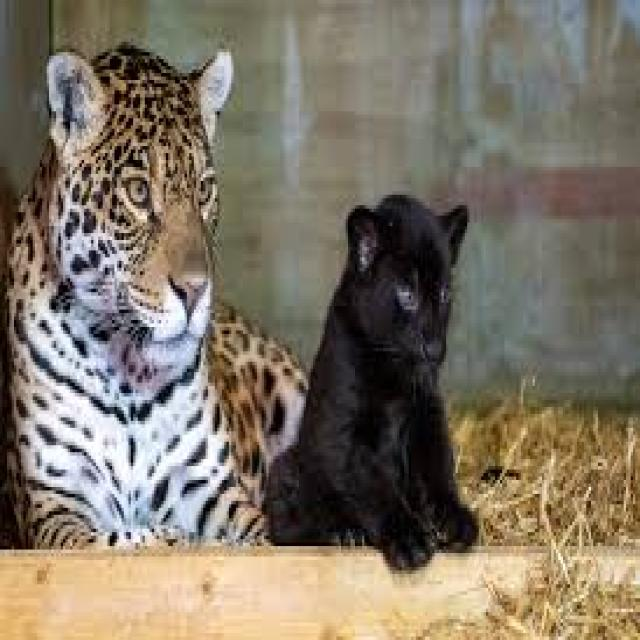Jaguar: (9, 59, 278, 553), (294, 126, 490, 592)
